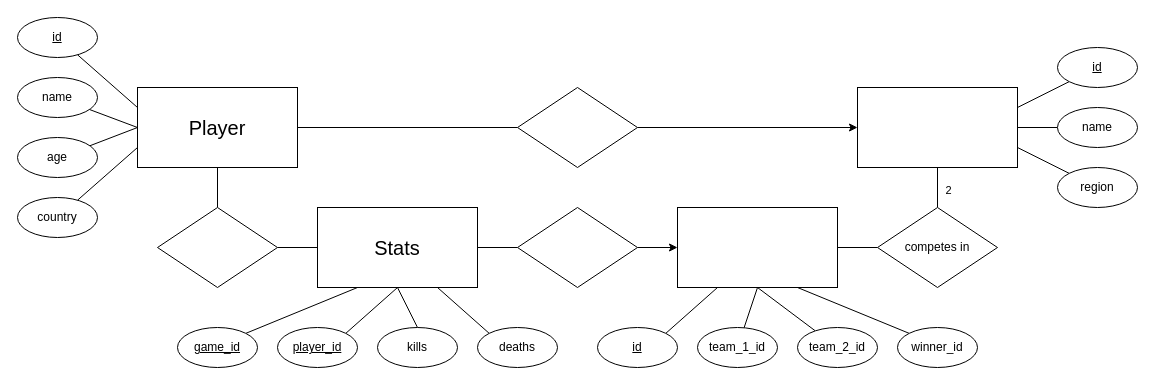
The diagram is 1155 pixels wide and 385 high, and some of its shapes have lost their labels. Here are the shapes that lost their labels. From the top down, the centre of each, then its label:
the point at 577,127: plays for
the point at 937,127: Team
the point at 217,247: has
the point at 577,247: belongs to
the point at 757,247: Game
